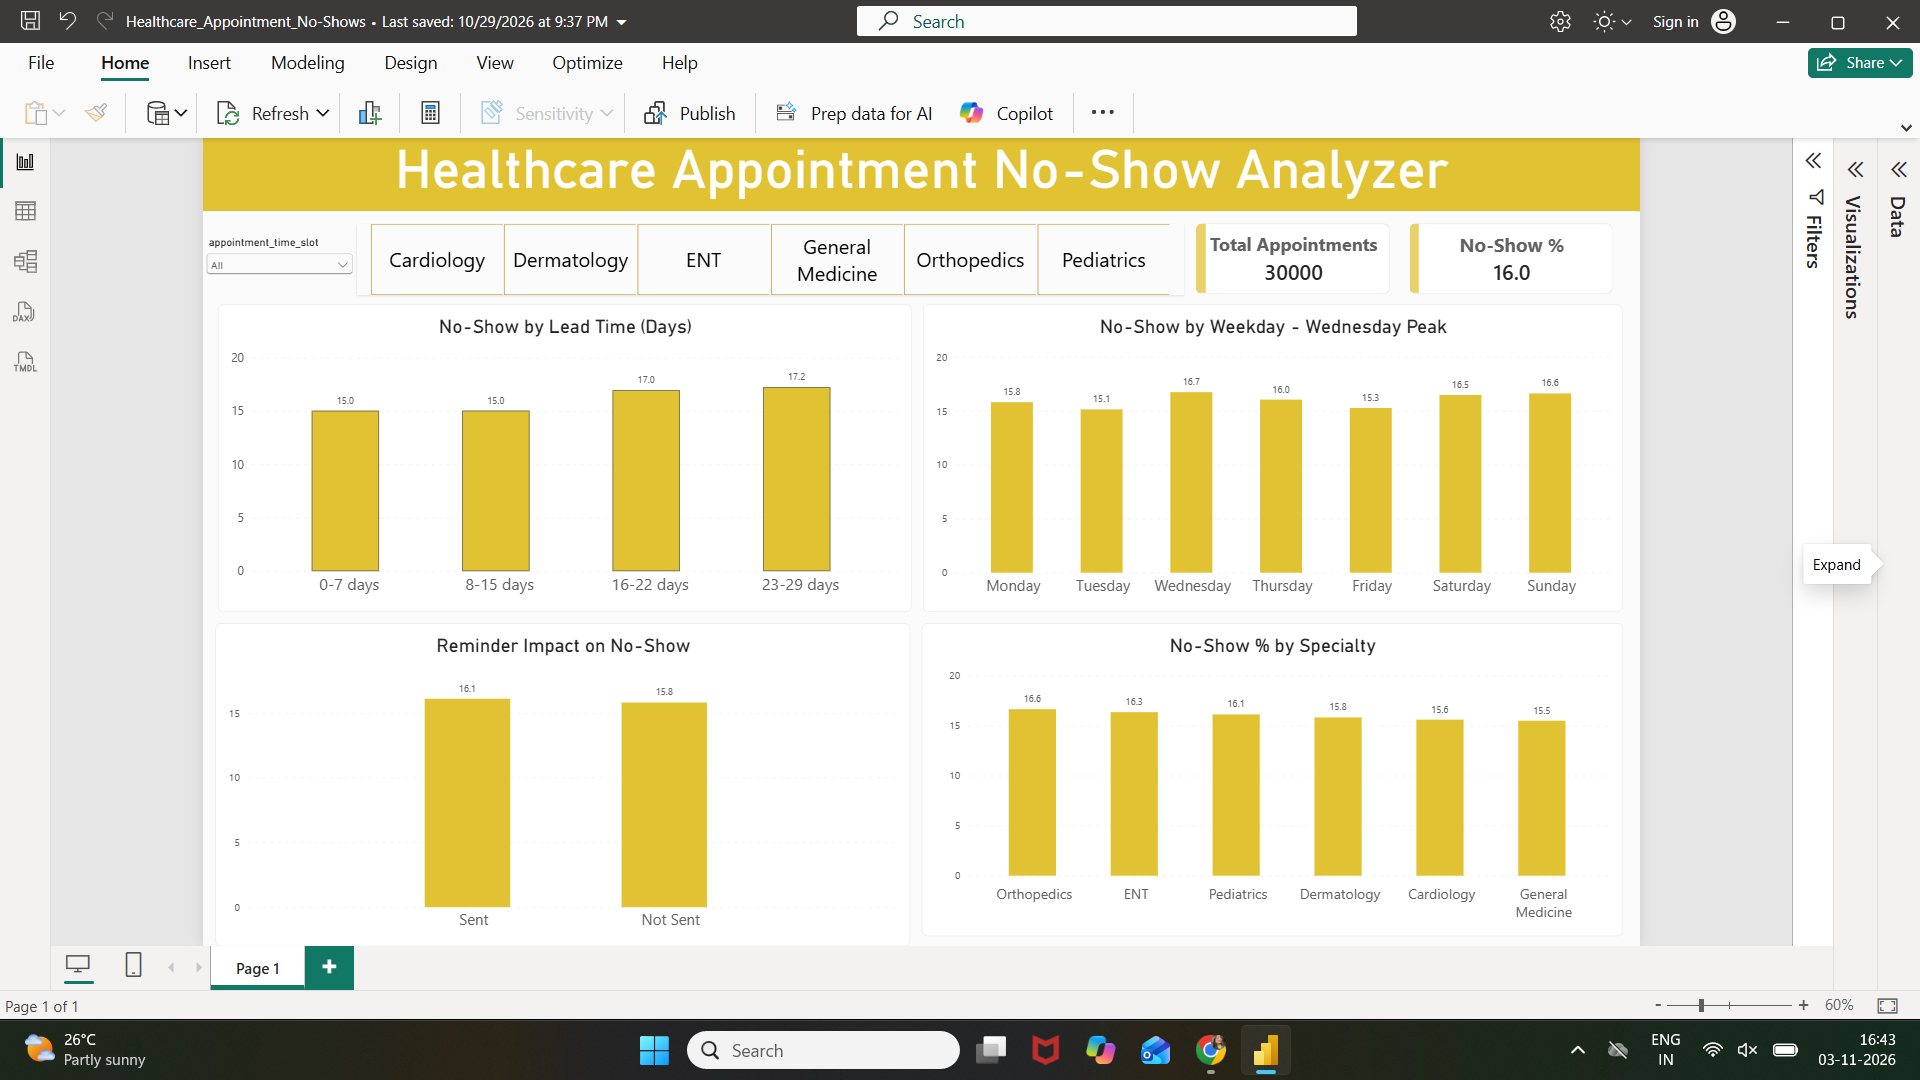

Layout of this report page (visuals, bound fields, positions):
{"tool":"powerbi","page":{"name":"Page 1","canvas":[1920,1080],"ordinal":0},"visuals":[{"type":"cardVisual","fields":{"Data":["CountNonNull(public appointments.appointment_date)"]},"box":[1325.8,113.5,259.9,94.2],"z":0},{"type":"cardVisual","fields":{"Data":["public appointments.NoShow %"]},"box":[1611.3,113.5,271.3,94.5],"z":1000},{"type":"clusteredColumnChart","title":"No-Show by Lead Time (Days)","fields":{"Category":["public appointments.lead_time_bucket"],"Y":["public appointments.NoShow %"]},"box":[19.3,222.3,926,411.4],"z":2000},{"type":"clusteredColumnChart","title":"No-Show by Weekday - Wednesday Peak","fields":{"Category":["public appointments.weekday"],"Y":["public appointments.NoShow %"]},"box":[961.1,222.3,934.8,411.4],"z":3000},{"type":"clusteredColumnChart","title":"Reminder Impact on No-Show","fields":{"Category":["public appointments.reminder_sent"],"Y":["public appointments.NoShow %"]},"box":[17.5,647.7,927.8,432.4],"z":4000},{"type":"clusteredColumnChart","title":"No-Show % by Specialty","fields":{"Category":["public appointments.specialty"],"Y":["public appointments.NoShow %"]},"box":[959.3,647.7,936.5,418.4],"z":5000},{"type":"slicer","fields":{"Values":["public appointments.specialty"]},"box":[204.8,115.5,1104.6,94.5],"z":6000},{"type":"textbox","title":"Healthcare Appointment No-Show Analyzer","box":[0,0,1920.2,98.5],"z":7000},{"type":"slicer","fields":{"Values":["public appointments.appointment_time_slot"]},"box":[0,129.5,204.8,80.5],"z":8000}]}

Visuals, with their boxes on the page's 1920x1080 design canvas (x1, y1, x2, y2). These are canvas units, not pixel positions in the 1920x1080 screenshot, which may show the page scaled, cropped or inside an application window:
cardVisual - CountNonNull(public appointments.appointment_date): 1326,114,1586,208
cardVisual - public appointments.NoShow %: 1611,114,1883,208
"No-Show by Lead Time (Days)" clusteredColumnChart: 19,222,945,634
"No-Show by Weekday - Wednesday Peak" clusteredColumnChart: 961,222,1896,634
"Reminder Impact on No-Show" clusteredColumnChart: 18,648,945,1080
"No-Show % by Specialty" clusteredColumnChart: 959,648,1896,1066
slicer - public appointments.specialty: 205,116,1309,210
"Healthcare Appointment No-Show Analyzer" textbox: 0,0,1920,98
slicer - public appointments.appointment_time_slot: 0,130,205,210
